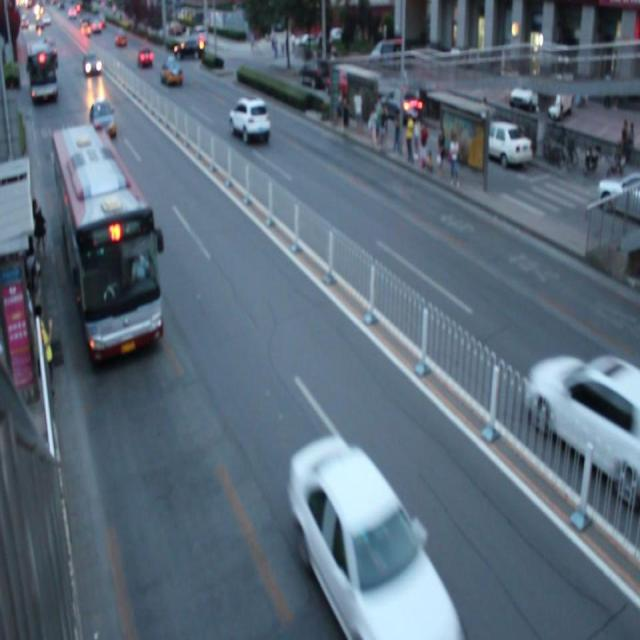car: (290, 437, 458, 640), (528, 348, 640, 490), (230, 97, 271, 145), (90, 100, 118, 138), (161, 58, 182, 88)
van: (52, 127, 163, 353)
